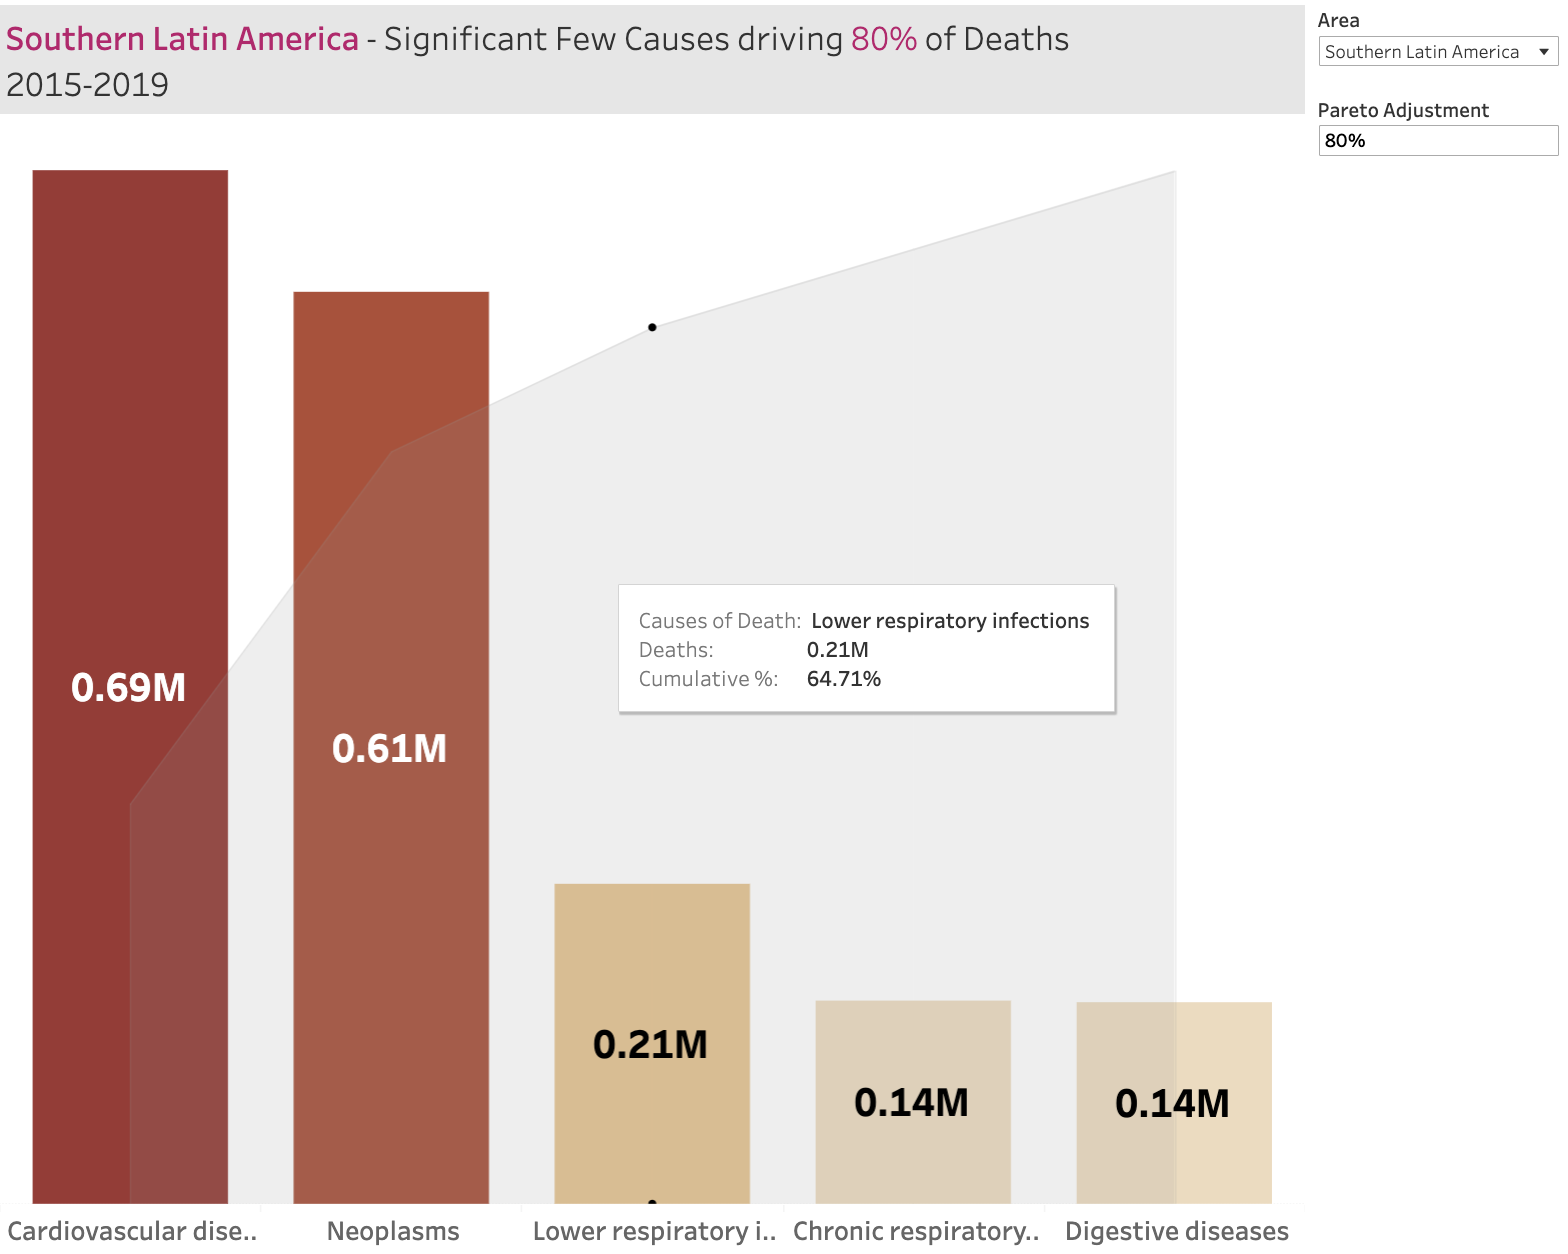

The dashboard page shown, as its layout file describes it:
{"tool":"tableau","page":{"name":"Significant Few Causes - Pareto","canvas":[1000,800],"ordinal":0},"visuals":[{"type":"worksheet","title":"Traditional Pareto","mark":"Bar","rows":["Pivot Field Values","Calculation1"],"cols":["Pivot Field Names (copy)_389561420877312000"],"box":[8,8,824,784]},{"type":"filter","title":"Traditional Pareto","param":"[federated.04uhea11dwavbc107o7uq0qv3tqp].[none:Entity:nk]","box":[832,8,160,52]},{"type":"parameter","param":"[Parameters].[Parameter 1]","box":[832,60,160,52]}]}

Visuals, with their boxes in screenshot pixels (x1, y1, x2, y2), scaled from the page's 1000x800 canvas onto the 1568x1254 screenshot:
"Traditional Pareto" worksheet (Bar marks): 13 13 1305 1241
"Traditional Pareto" filter: 1305 13 1555 94
parameter: 1305 94 1555 176
